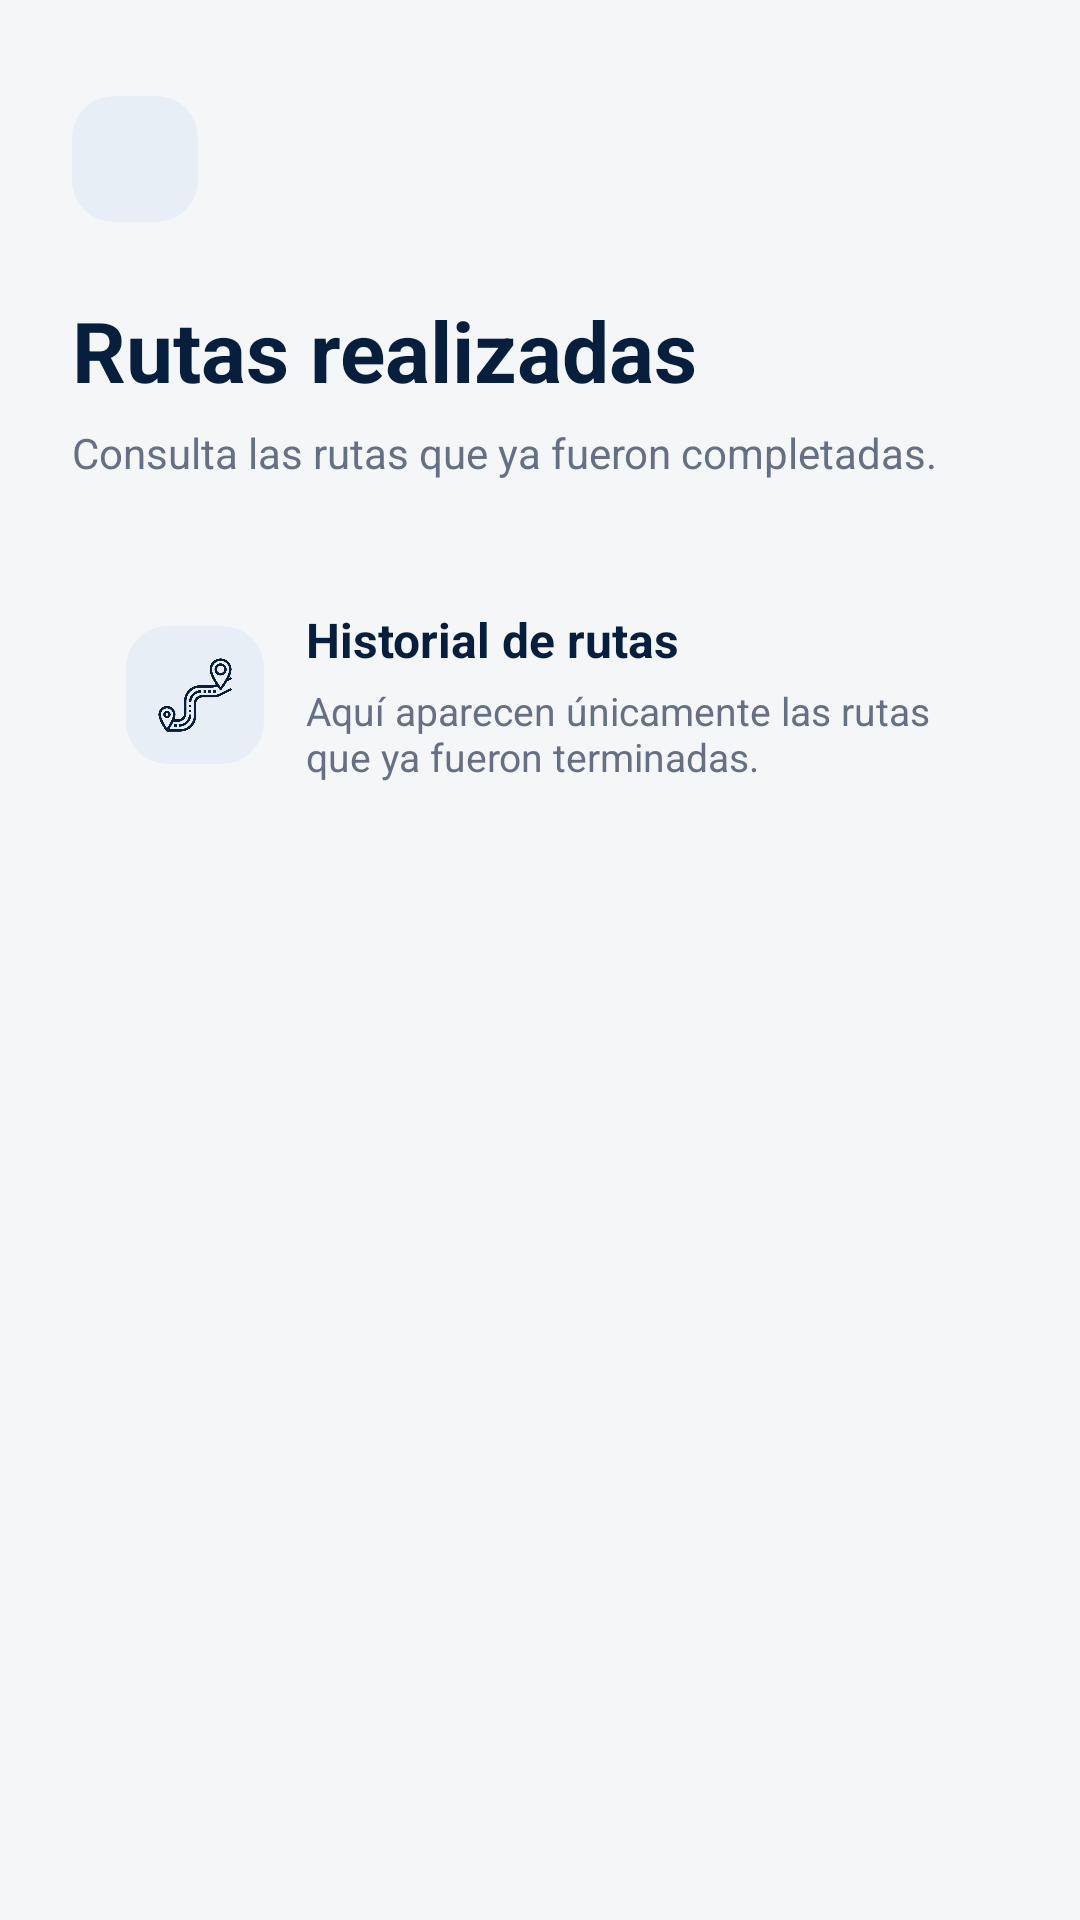

Named icons in this screenshot (1080*1920) and their bounding boxes, (x1, y1, x2, y2):
Información de rutas: (126, 626, 264, 764)
